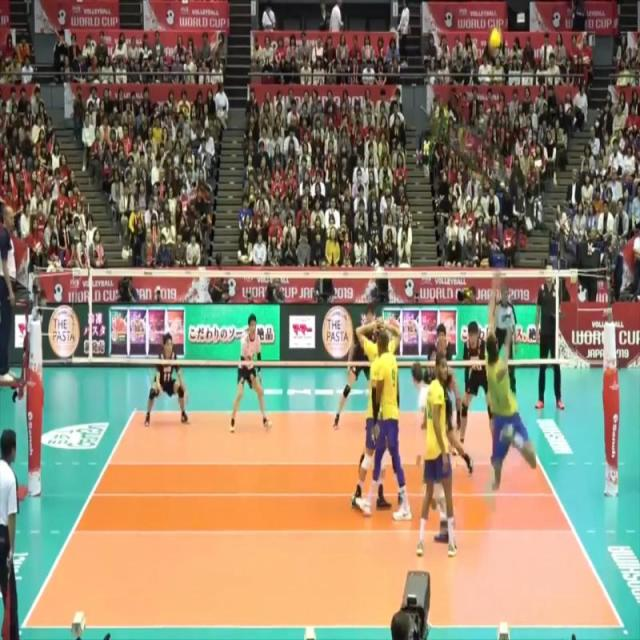volleyball: (486, 28, 503, 55)
